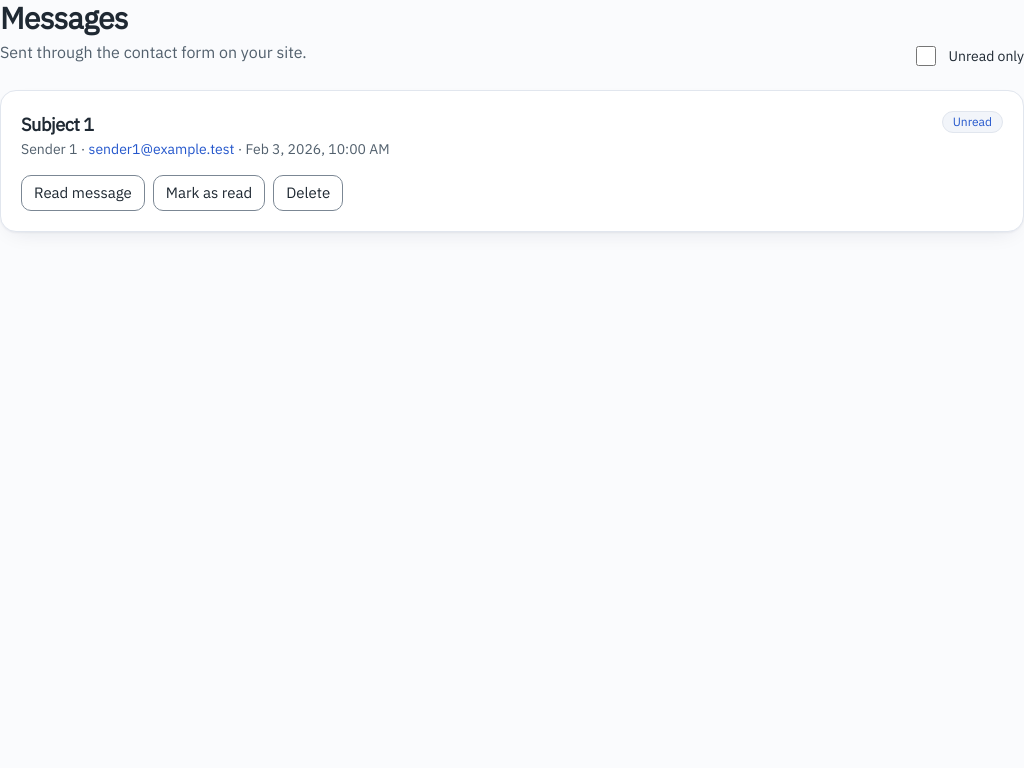
Test: MessagesPage › deletes only after confirmation
The width and height of the screenshot is (1024, 768).
Click the button named "Delete: Subject 1" at [308, 193], box [273, 175, 343, 211]
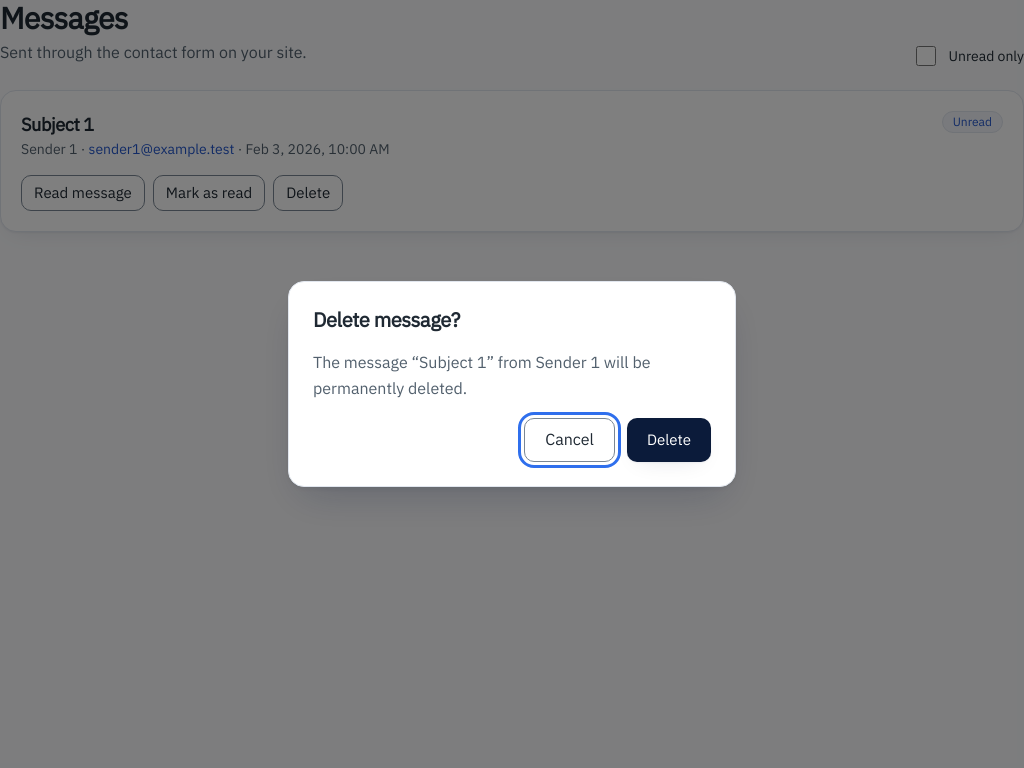
Result: the dialog "Delete message?" shows "Subject 1" at [313, 352, 651, 398]
Click the button "Delete" at [669, 440], box [627, 418, 711, 462]
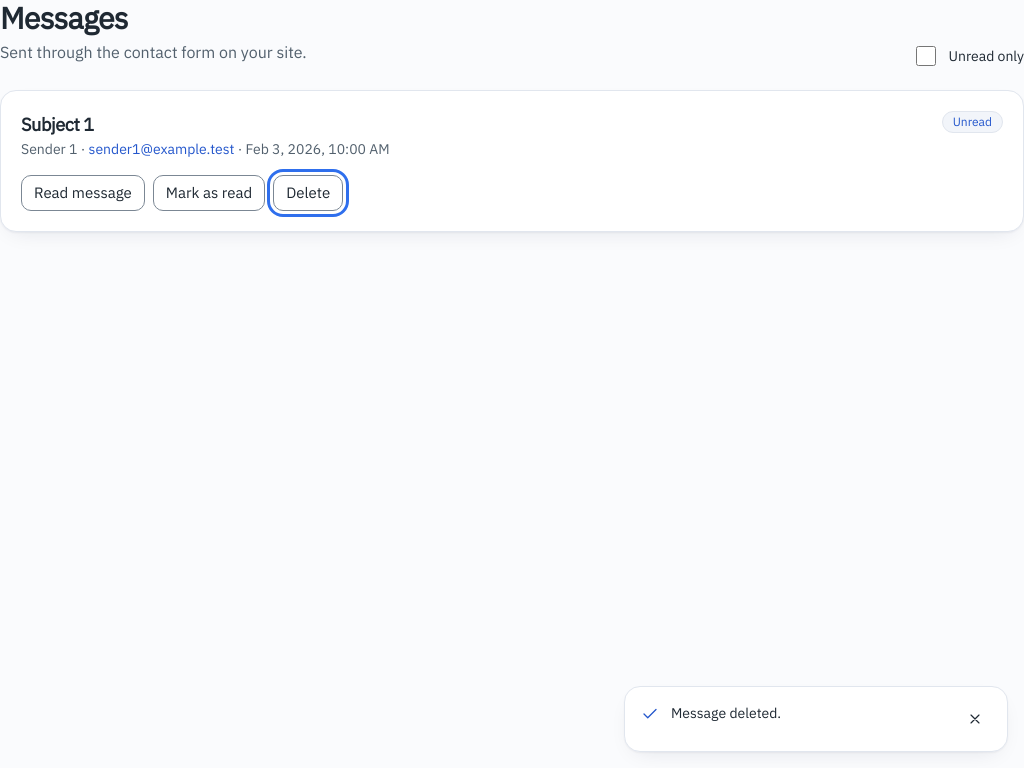
Result: the text "Message deleted." is shown at [671, 704, 781, 722]
